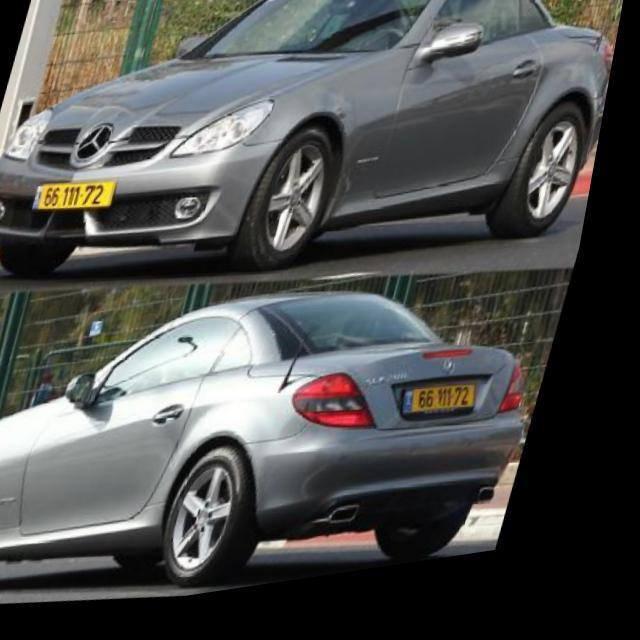license_plate: (35, 172, 128, 222), (413, 389, 499, 438)
